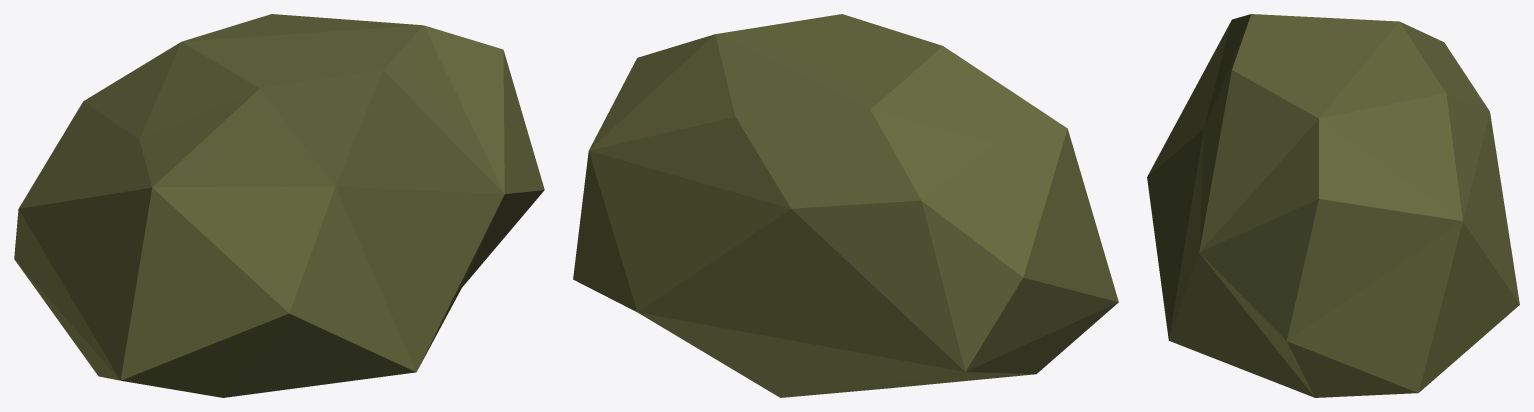
File: sm_bush.fbx
3 views of the same model, side by side, from view 1: azimuth 30°, elevation 25°; view 2: azimuth 150°, elevation 25°; view 3: azimuth 270°, elevation 25° (orthographic). The views are drawn at different scales.
Visible parts, largest first — view 1: pPlatonic1; view 2: pPlatonic1; view 3: pPlatonic1.
Boxes of the visible parts, box(x1,y1,x2,y2) form: pPlatonic1: box(14, 14, 544, 397); pPlatonic1: box(573, 14, 1118, 397); pPlatonic1: box(1147, 14, 1519, 397).
Size of the model in its own units: 185 by 107 by 133.
